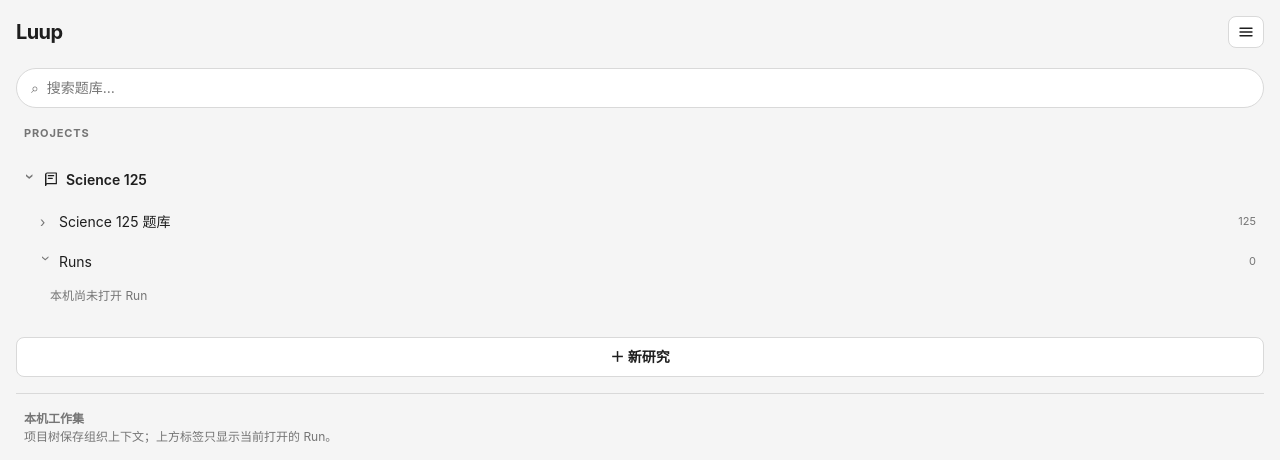
Test: ProjectSidebar › 折叠 Science 125 项目节点隐藏子树
Click the button "› Science 125": (106, 179) [16,159,1264,199]
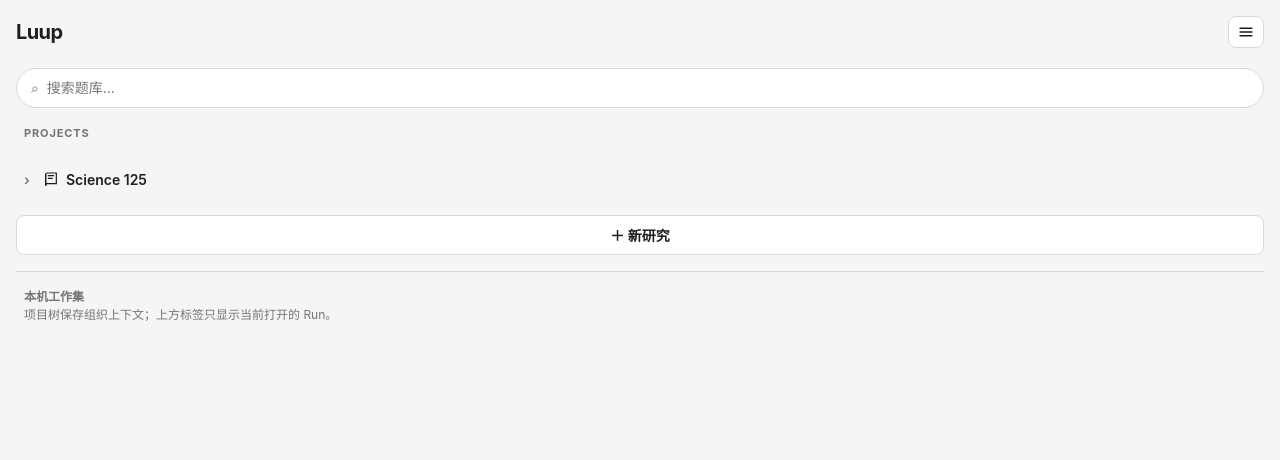
Now the button "› Science 125" is collapsed, box [16,159,1264,199]
Now the button "Runs" is gone
